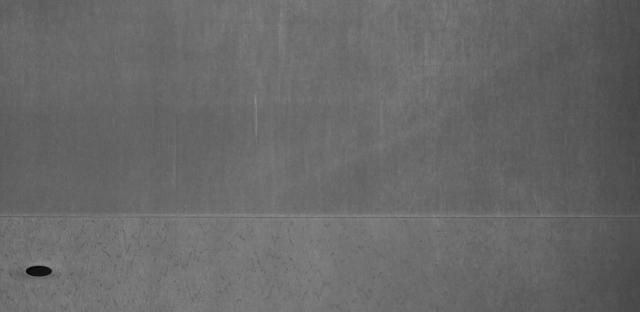punching_hole: (23, 261, 54, 279)
welding_line: (3, 208, 638, 225)
